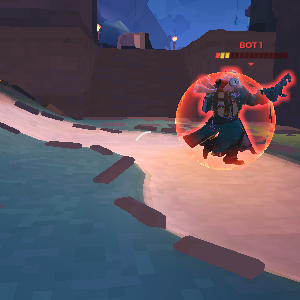model: (197, 61, 259, 175)
